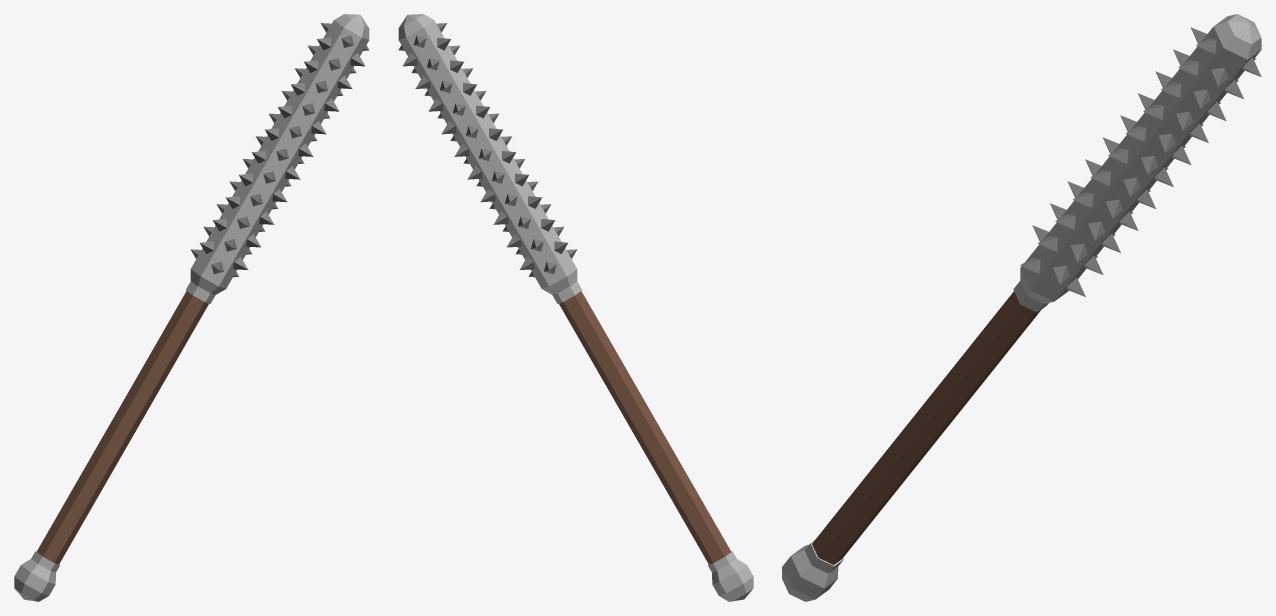
The model's file is Tetsubo.fbx.
3 views of the same model, side by side, from view 1: azimuth 30°, elevation 25°; view 2: azimuth 150°, elevation 25°; view 3: azimuth 330°, elevation 25° (orthographic). The views are drawn at different scales.
Parts seen in each view (by area): view 1: Tetsubo; view 2: Tetsubo; view 3: Tetsubo.
Boxes of the visible parts, <box> form: Tetsubo: <box>14,14,369,601</box>; Tetsubo: <box>398,14,753,601</box>; Tetsubo: <box>782,14,1261,601</box>.
Size of the model in its own units: 1902 by 2617 by 266.
